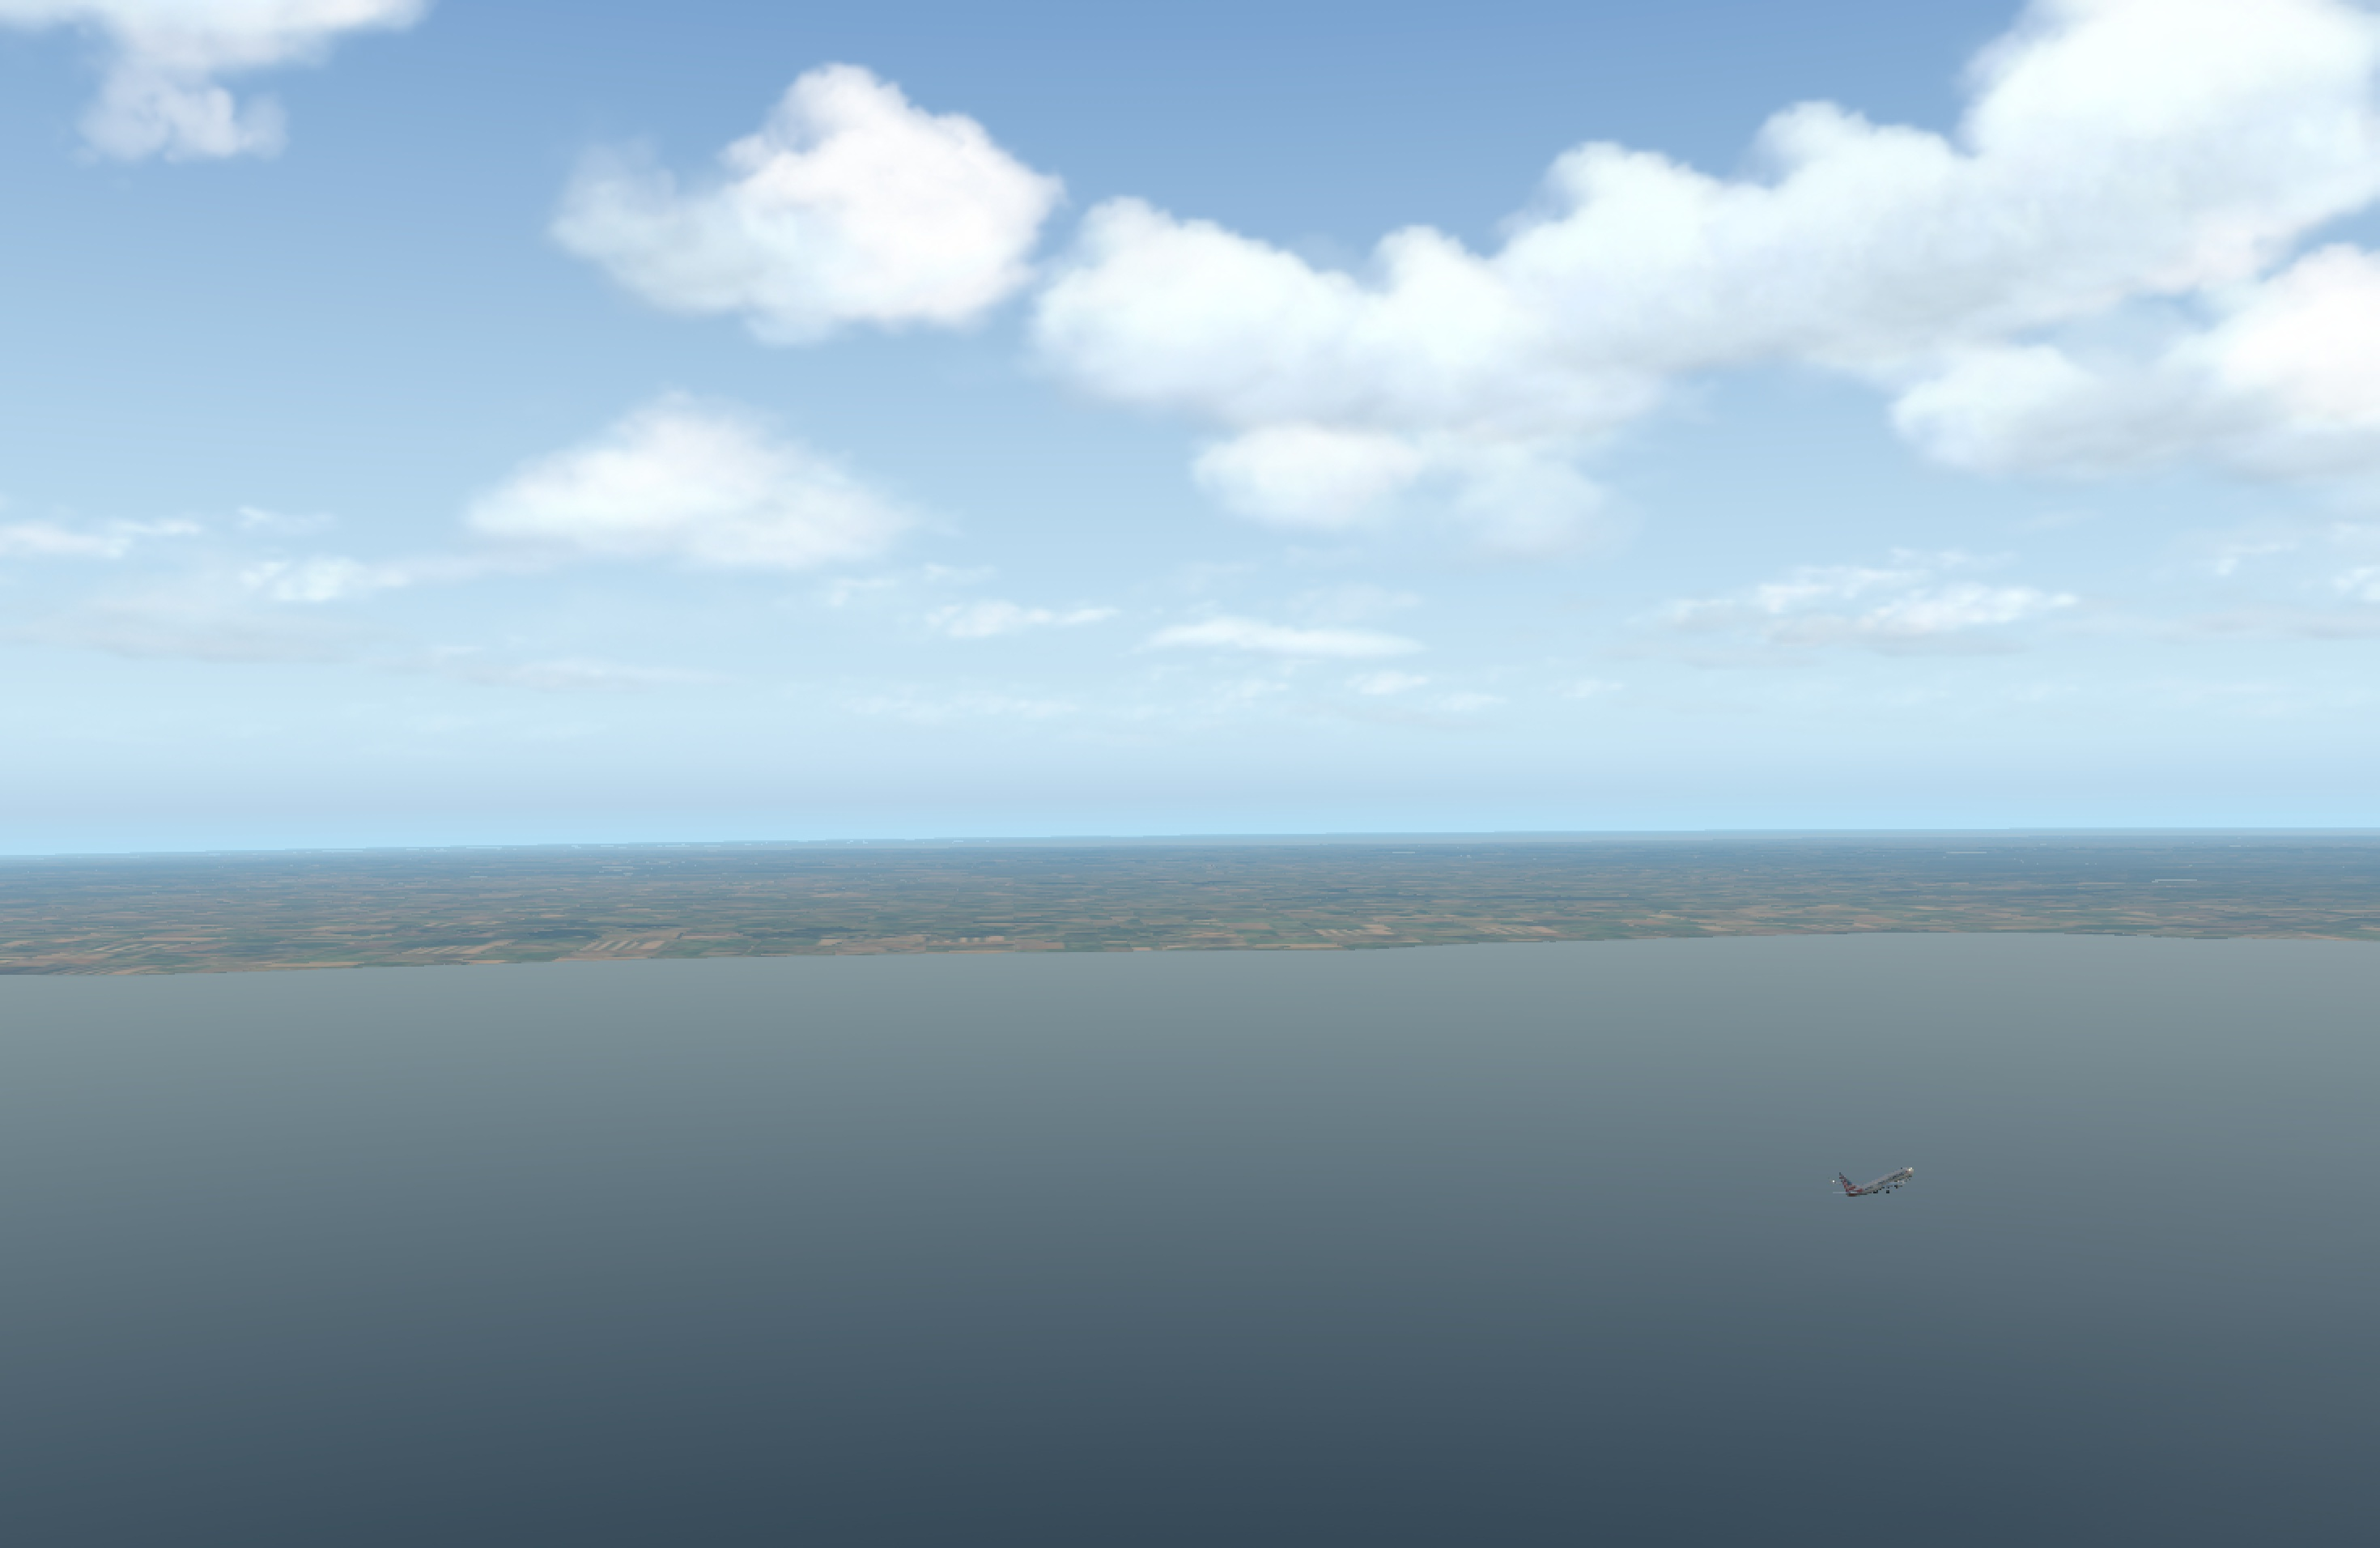aircraft: (1832, 1164, 1932, 1203)
